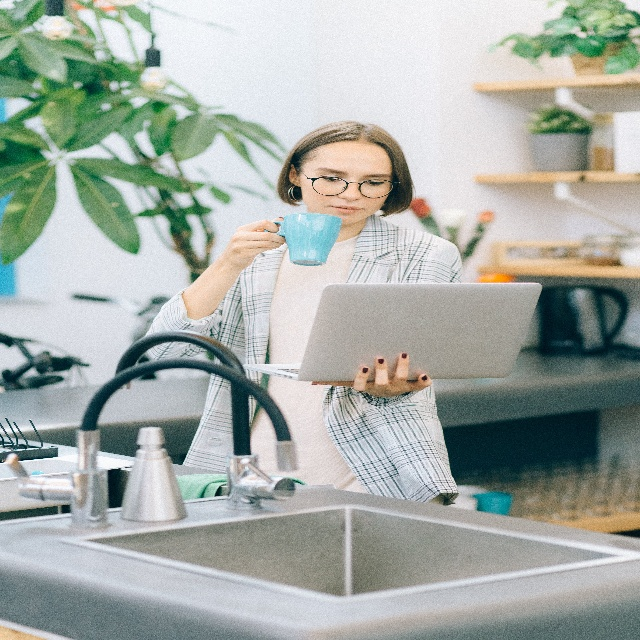Gafas: (296, 164, 401, 200)
Sin_guantes: (310, 346, 433, 400), (224, 216, 288, 269)
